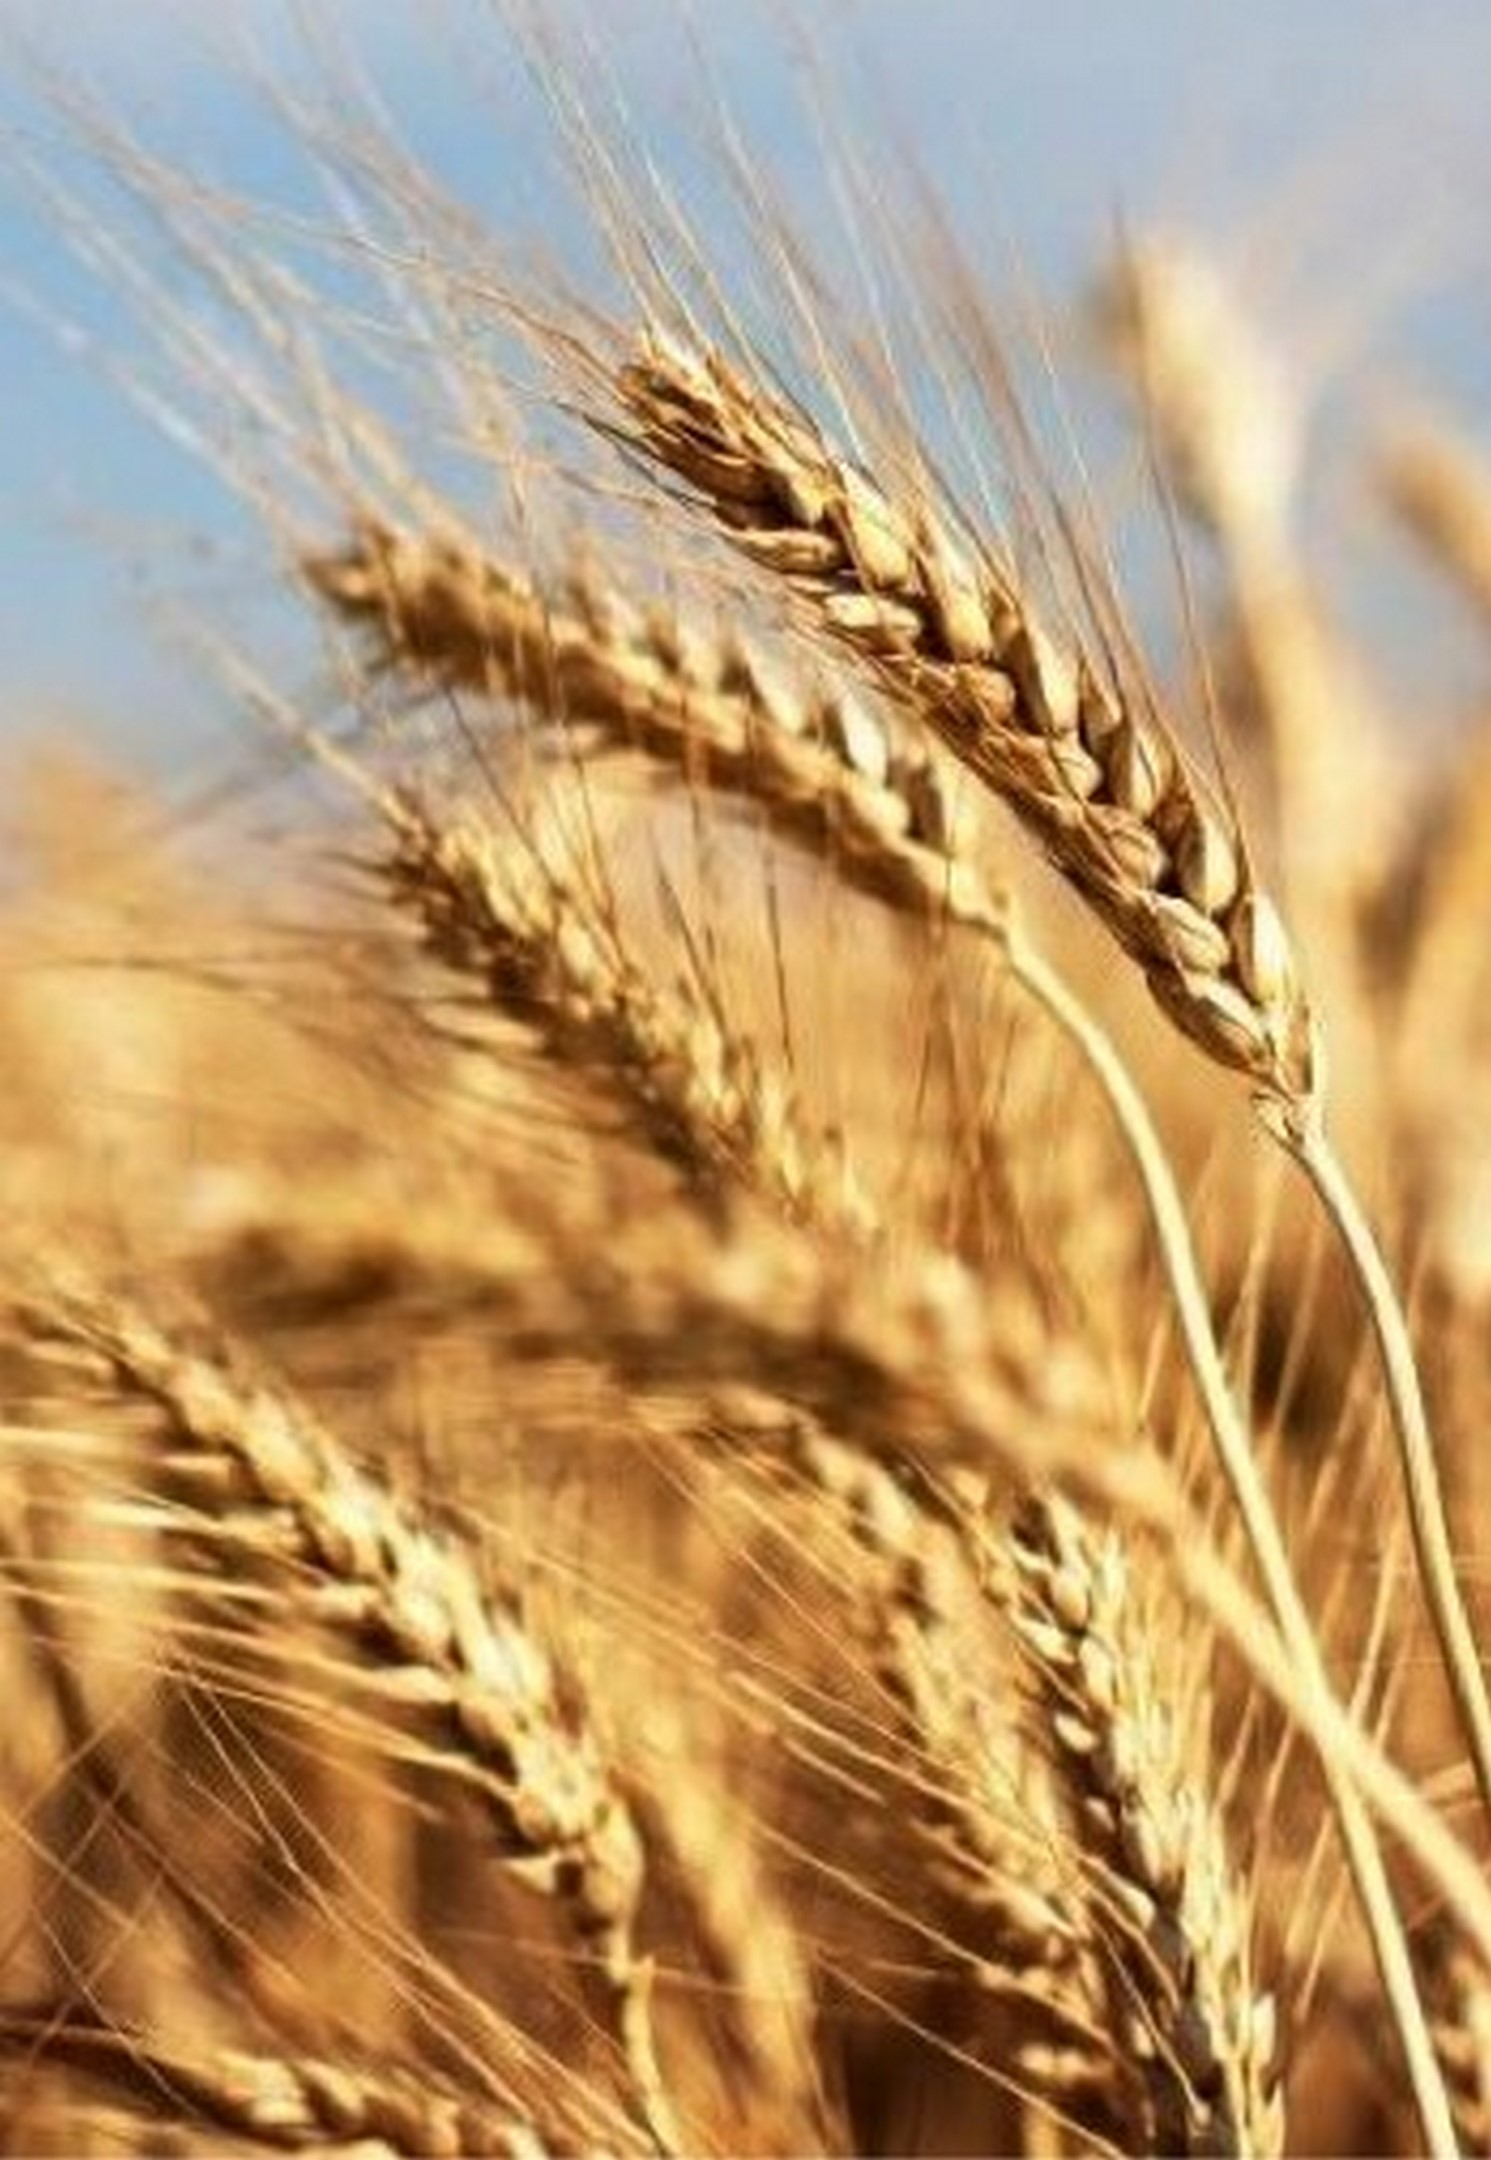Healthy Wheat: (580, 294, 1346, 1136)
